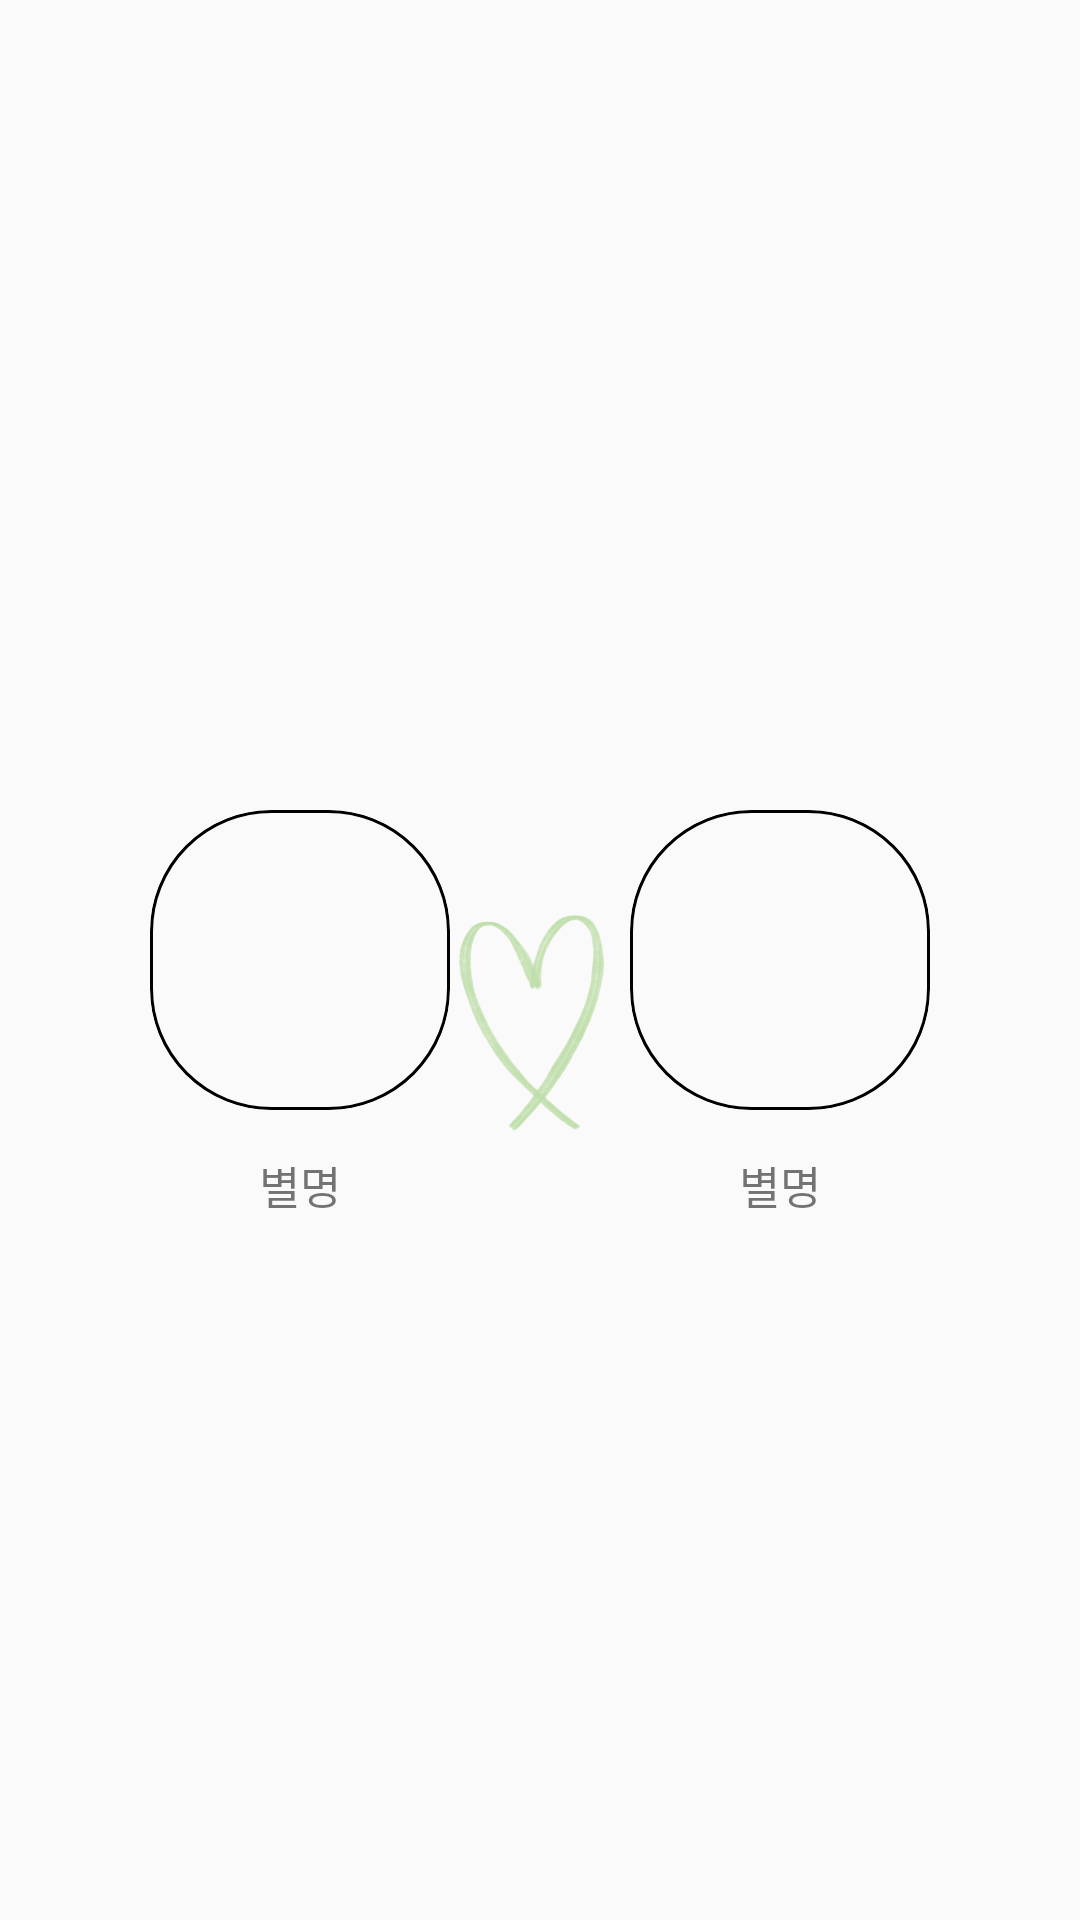

Locate icon controls on the screen. Image size 1080 × 1920, boxes as (x1, y1, x2, y2).
love: (459, 915, 604, 1131)
